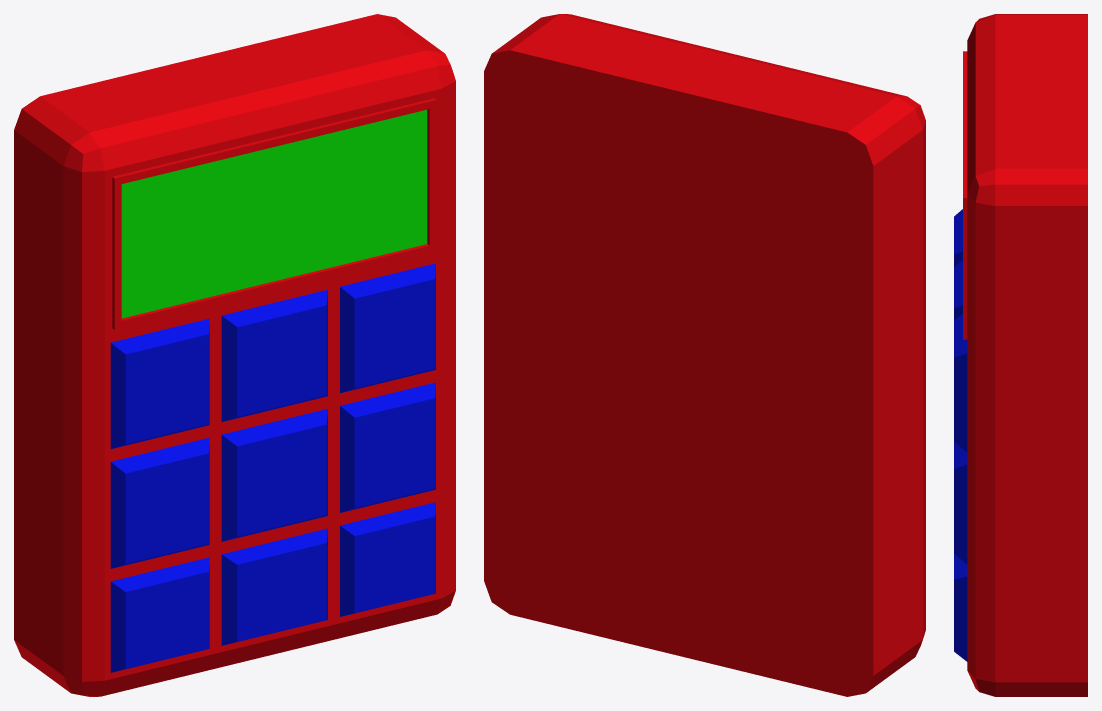
File: Keypad.fbx
3 renders of one model, left to right at view 1: azimuth 30°, elevation 25°; view 2: azimuth 150°, elevation 25°; view 3: azimuth 270°, elevation 25°, orthographic. The views are drawn at different scales.
Parts seen in each view (by area): view 1: Keypads; view 2: Keypads; view 3: Keypads.
Boxes of the visible parts, x1,y1,x2,y2 form: Keypads: (14, 14, 455, 696); Keypads: (484, 14, 925, 696); Keypads: (954, 14, 1087, 696).
Size of the model in its own units: 11.49 by 15.91 by 3.66.
